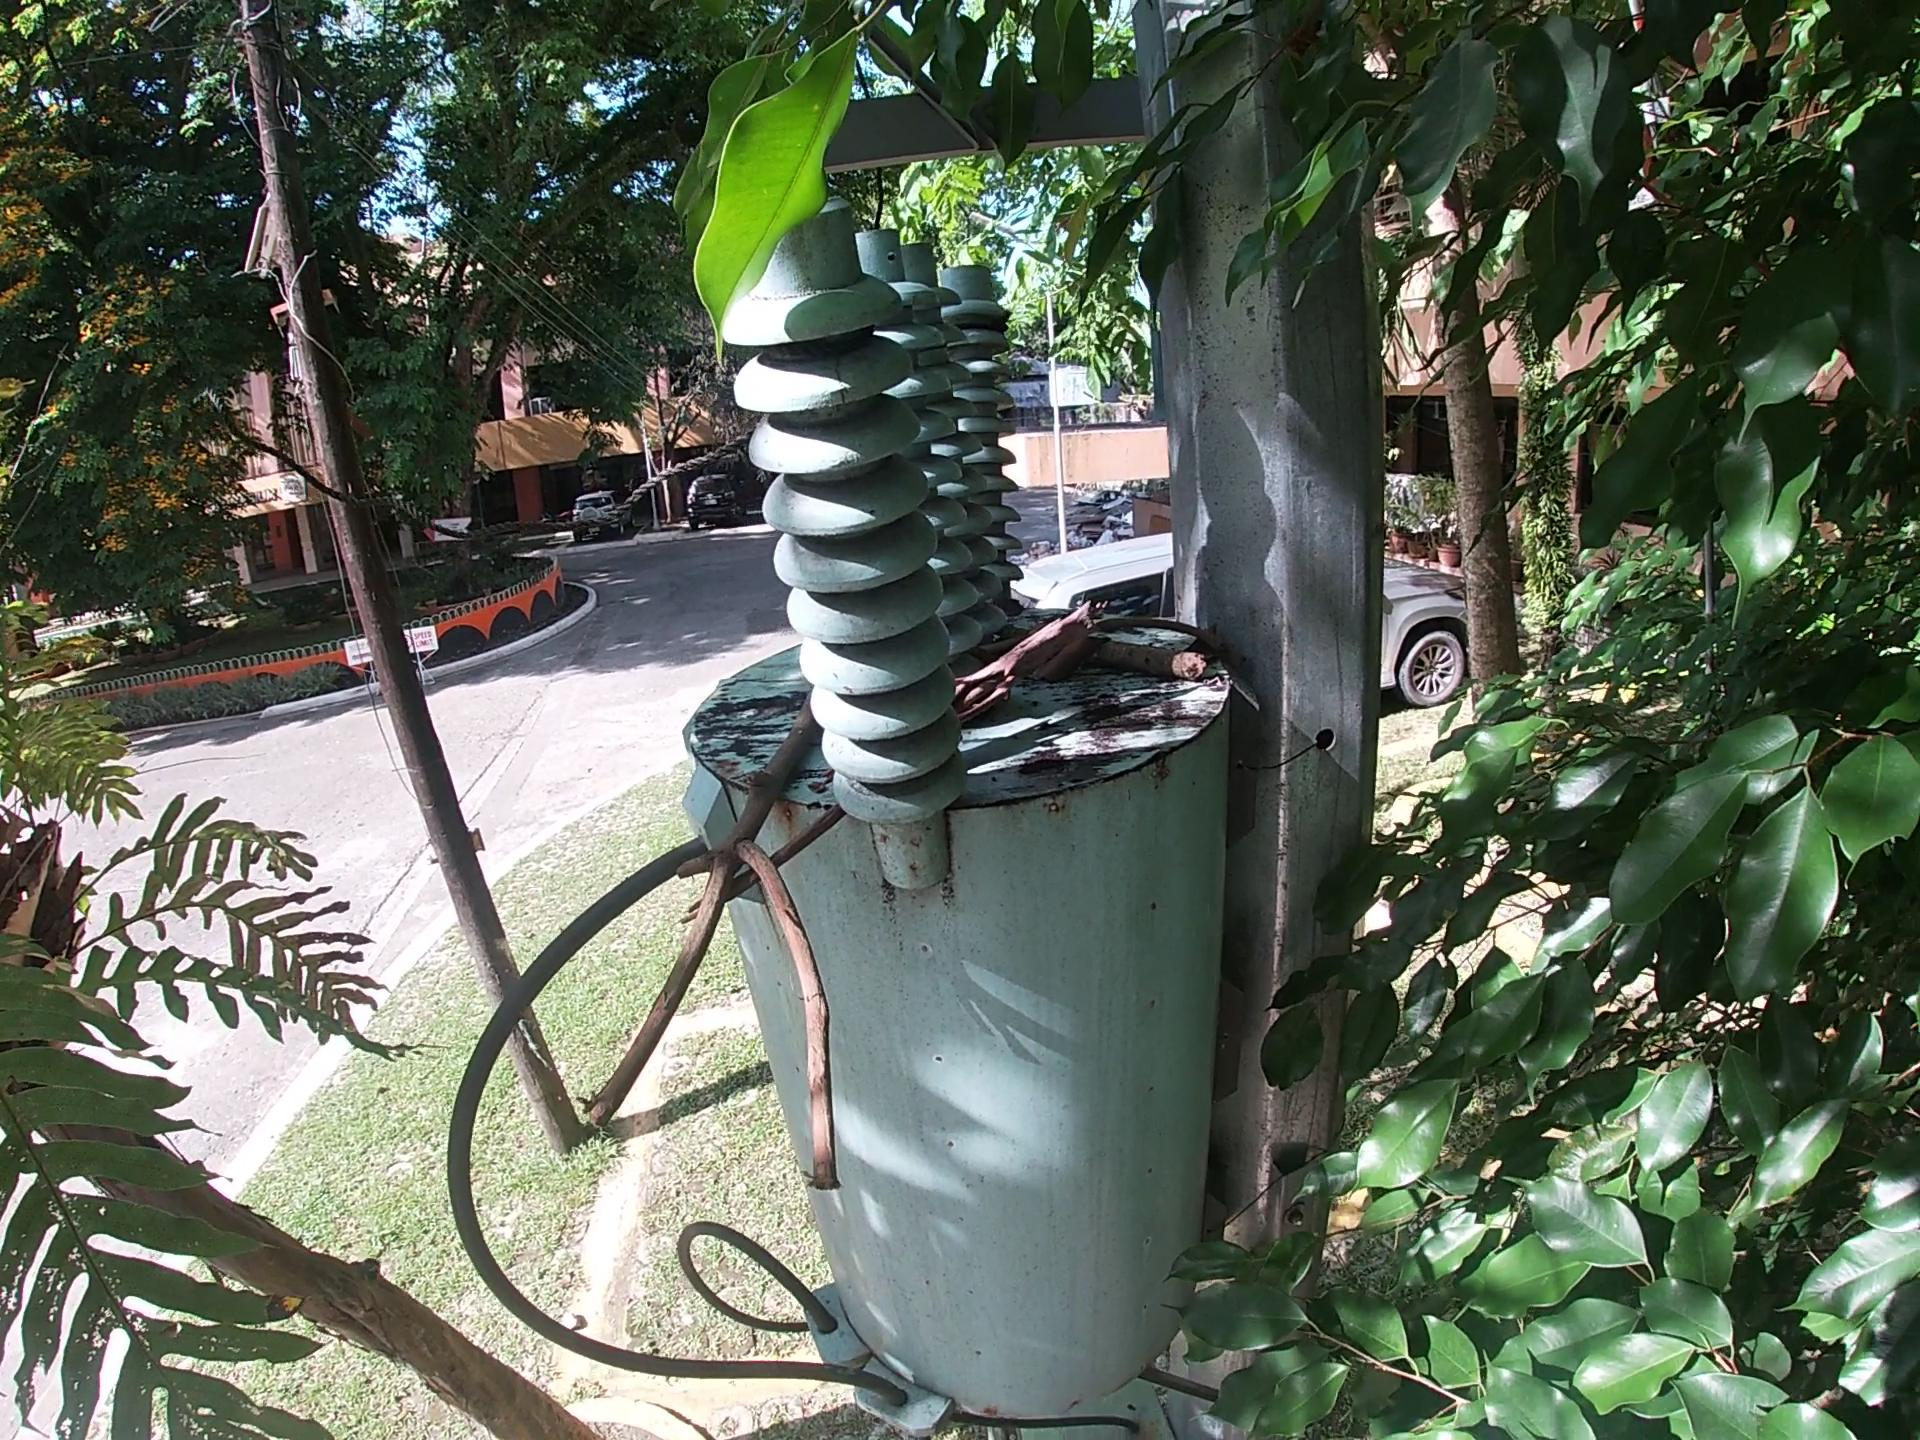tree branch: (593, 705, 830, 1190), (955, 596, 1110, 712), (1072, 638, 1209, 693), (1085, 614, 1262, 650), (972, 622, 1027, 661)
